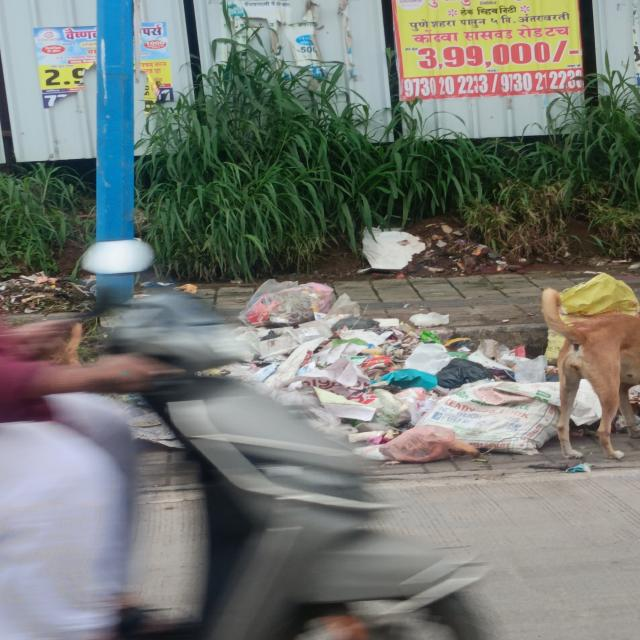garbage: (245, 282, 590, 461)
